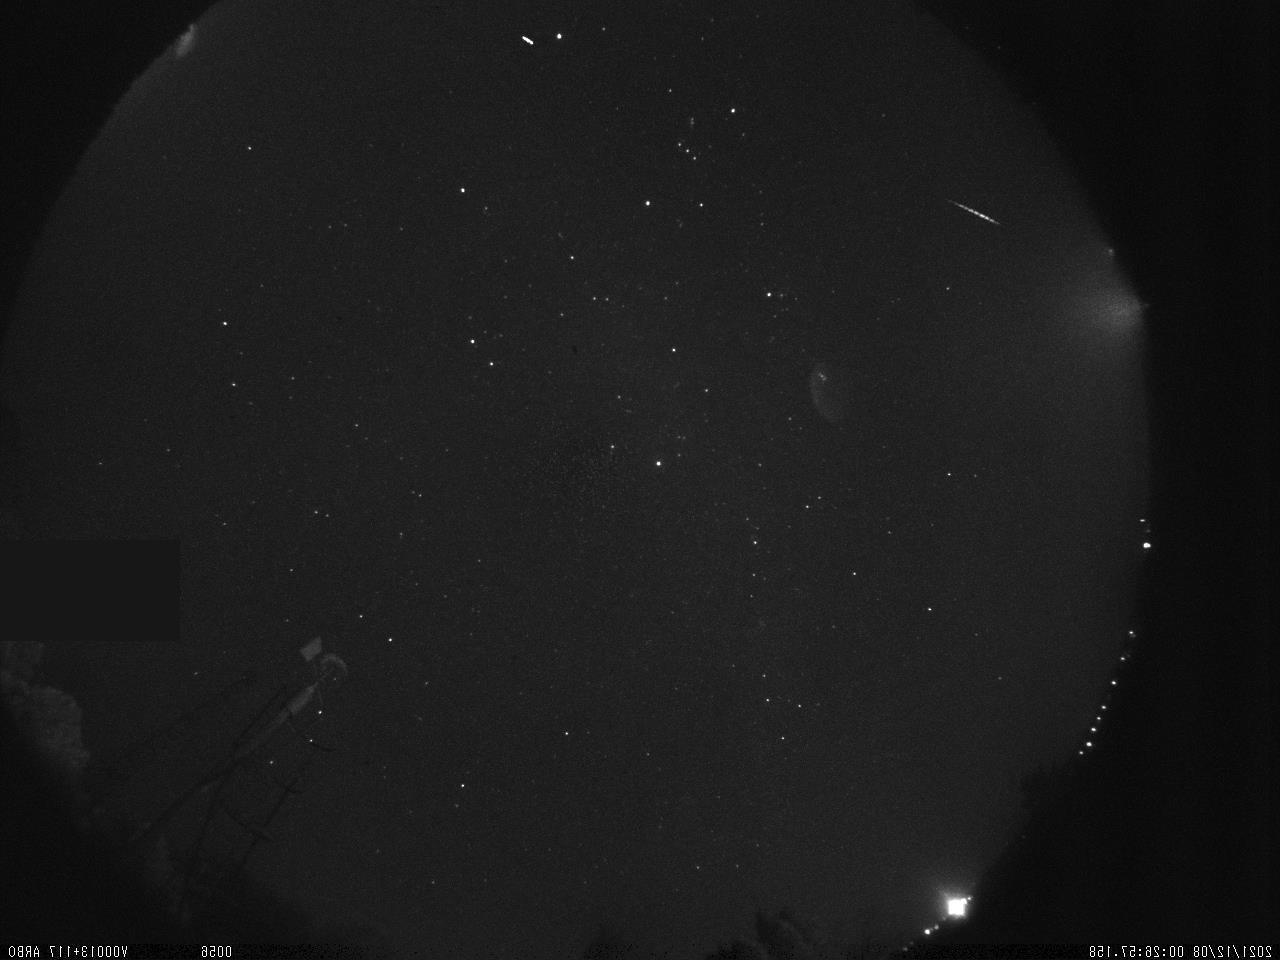meteor: (936, 192, 1030, 245)
